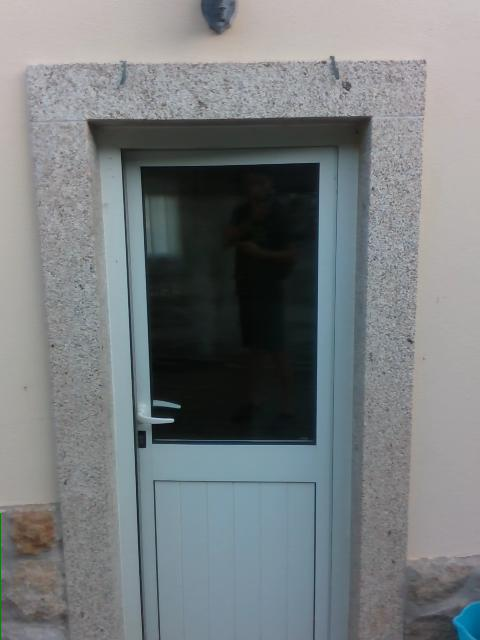door: (89, 122, 367, 639)
